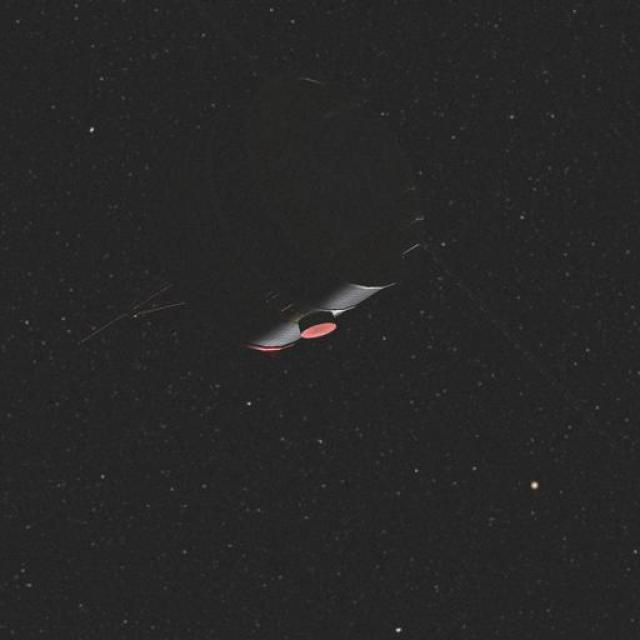double_start: (135, 91, 482, 392)
